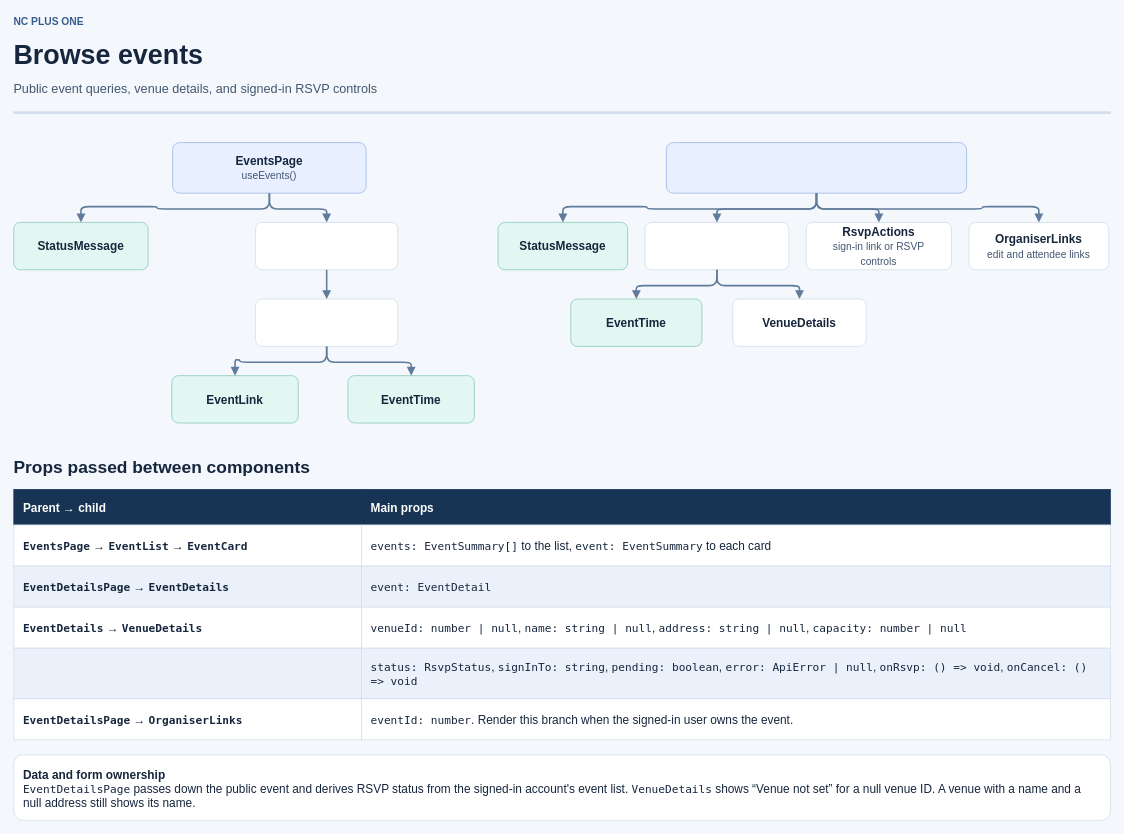
Image size: 1124x834. Some labels were removed from this diagram. Here are the shapes that lost their labels. From the top down, the centre of each, then its label:
At point 816,167: "EventDetailsPage useEvent(eventId), useMyEvents() when signed in, RSVP mutations".
At point 326,246: "EventList".
At point 716,246: "EventDetails".
At point 326,322: "EventCard one per event".
At point 187,673: "EventDetailsPage → RsvpActions".
